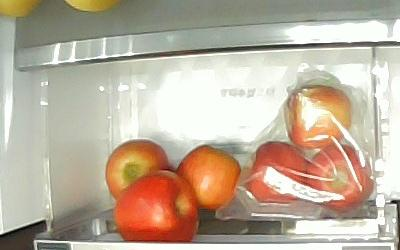apple: (111, 167, 199, 243), (174, 143, 241, 210), (103, 138, 170, 201)
apple_vinyl: (305, 142, 374, 211), (282, 82, 352, 149), (242, 139, 311, 204)
